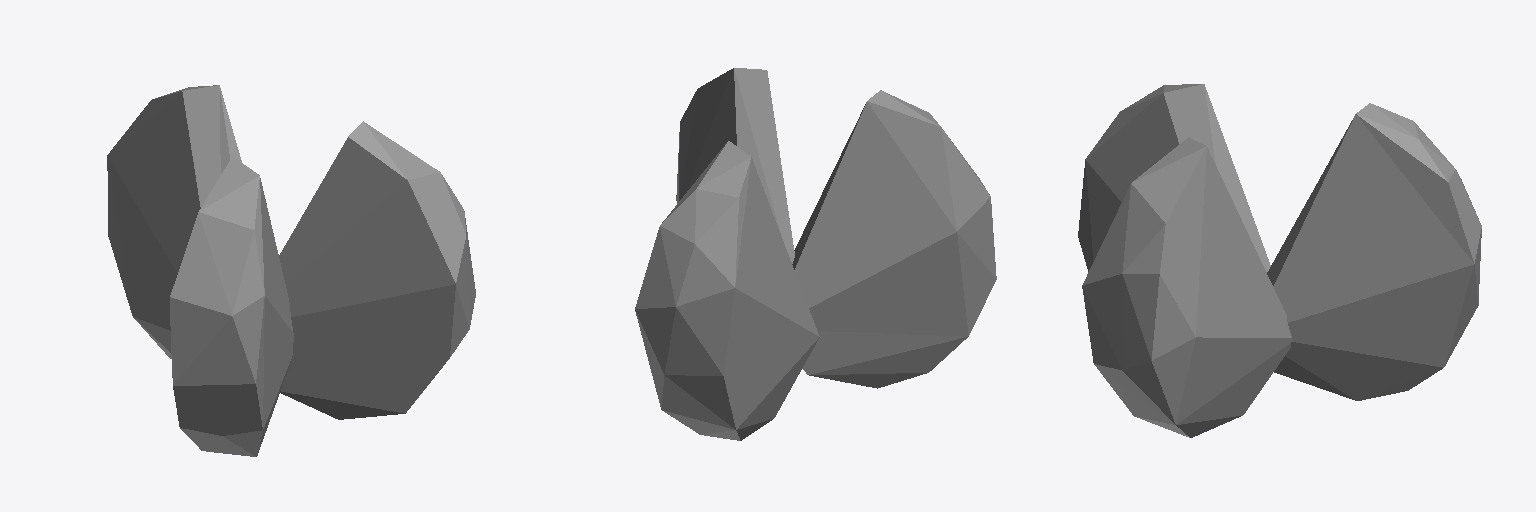
The model's file is englobinghand.obj.
3 renders of one model, left to right at view 1: azimuth 30°, elevation 25°; view 2: azimuth 150°, elevation 25°; view 3: azimuth 270°, elevation 25°, orthographic.
Parts seen in each view (by area): view 1: foo.012, foo.010, foo.013; view 2: foo.010, foo.013, foo.012; view 3: foo.013, foo.012, foo.010.
Part boxes in pixels (bbox=[...]): foo.012: bbox=[279, 121, 475, 419]; foo.010: bbox=[170, 156, 293, 456]; foo.013: bbox=[107, 85, 241, 358]; foo.010: bbox=[792, 90, 996, 388]; foo.013: bbox=[635, 141, 819, 440]; foo.012: bbox=[676, 68, 794, 263]; foo.013: bbox=[1267, 103, 1481, 400]; foo.012: bbox=[1082, 137, 1291, 437]; foo.010: bbox=[1078, 84, 1270, 271].
Size of the model in its own units: 2.98 by 2.63 by 3.34.